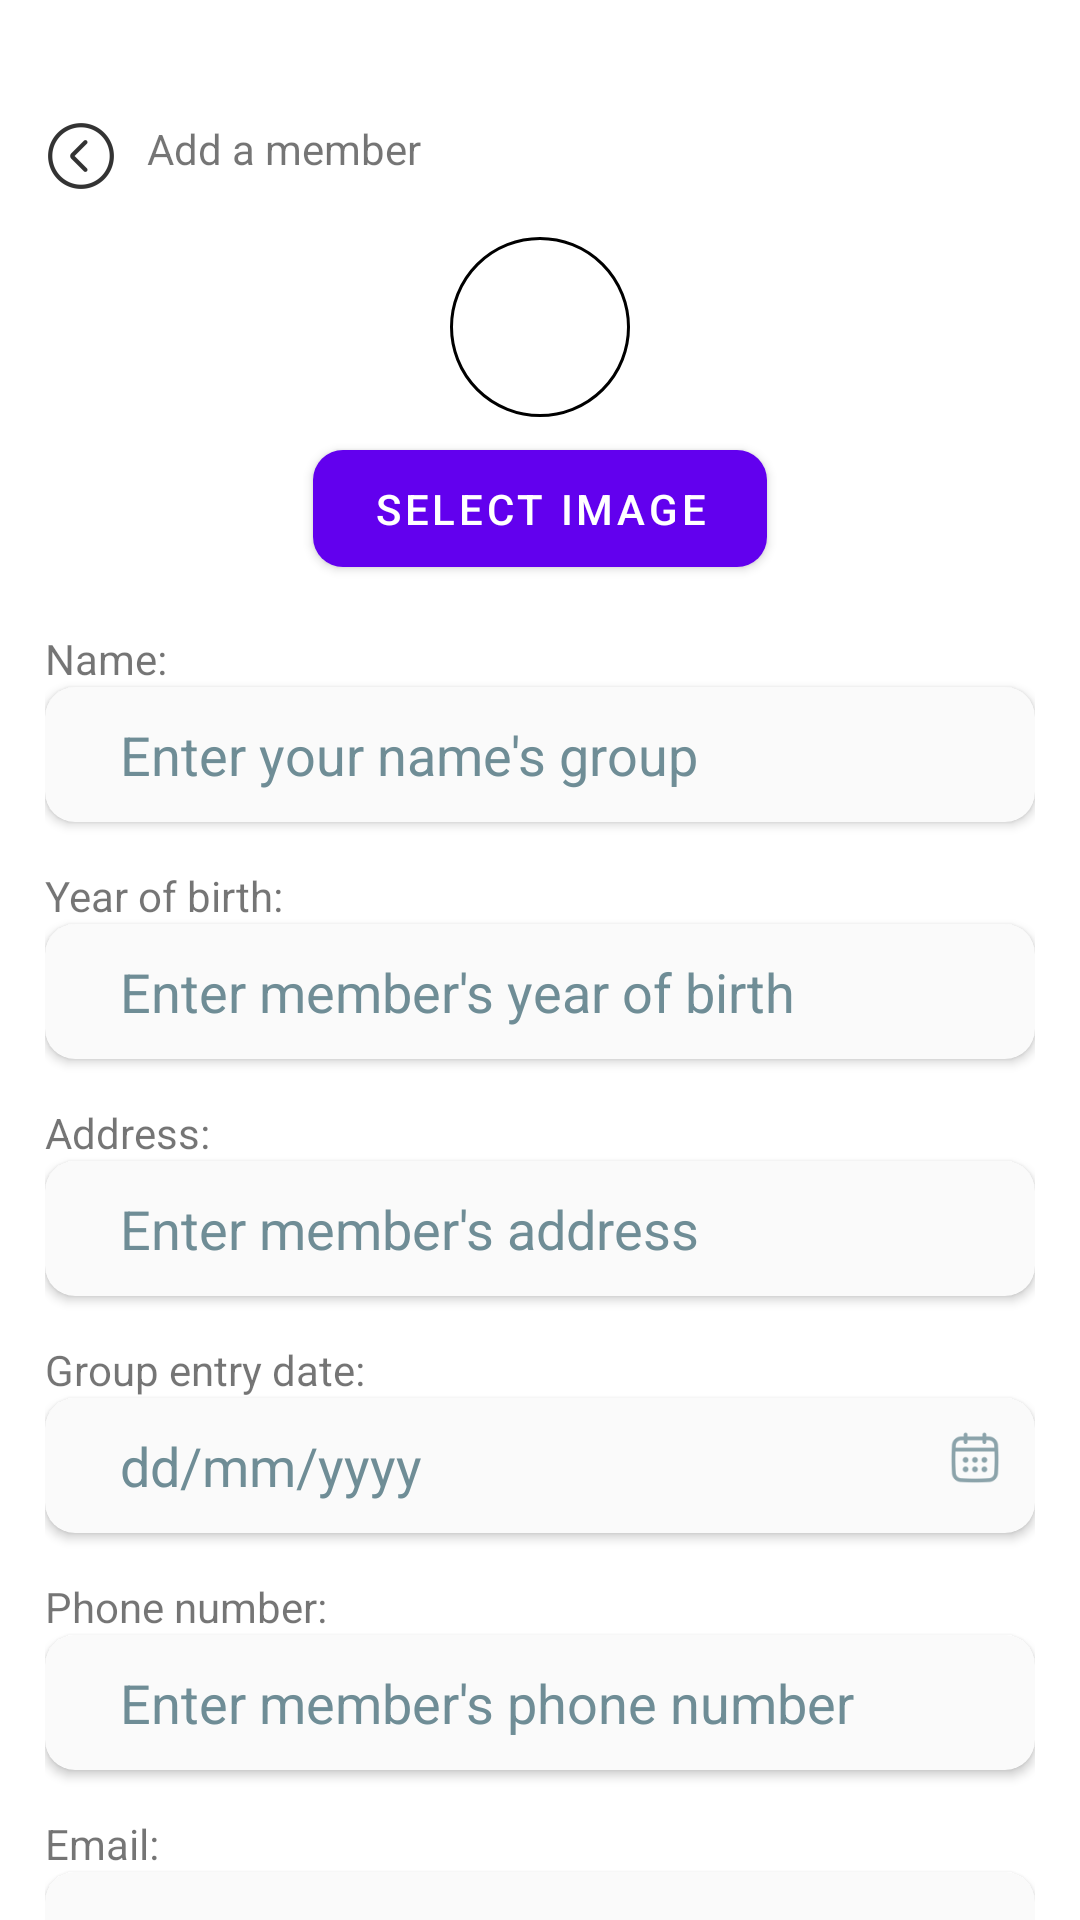

Screen size 1080 × 1920. Icon name, then its box in pixels as (x1, y1, x2, y2):
back: (48, 123, 114, 189)
calendar: (951, 1432, 999, 1483)
